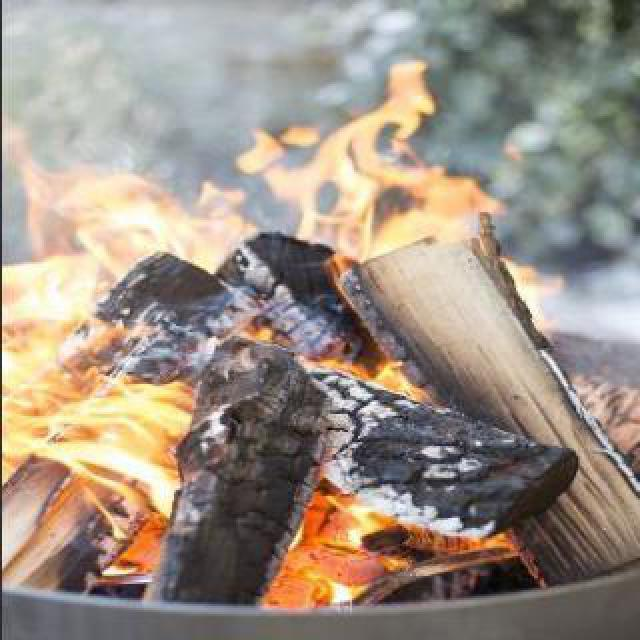Fire: (24, 58, 532, 574)
